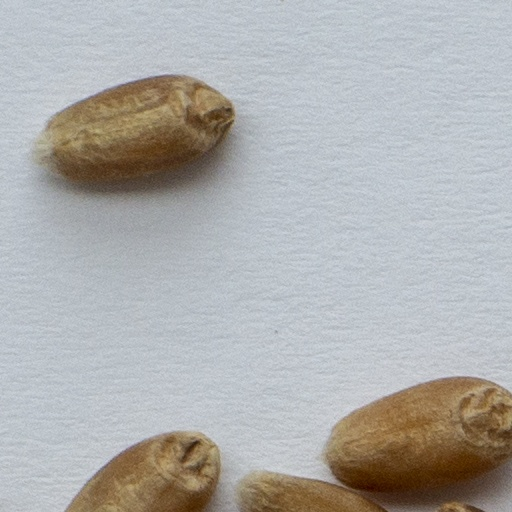Wheat-grain-poly: (34, 76, 233, 183)
